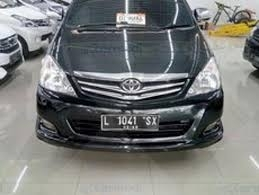plate: (101, 114, 157, 132)
